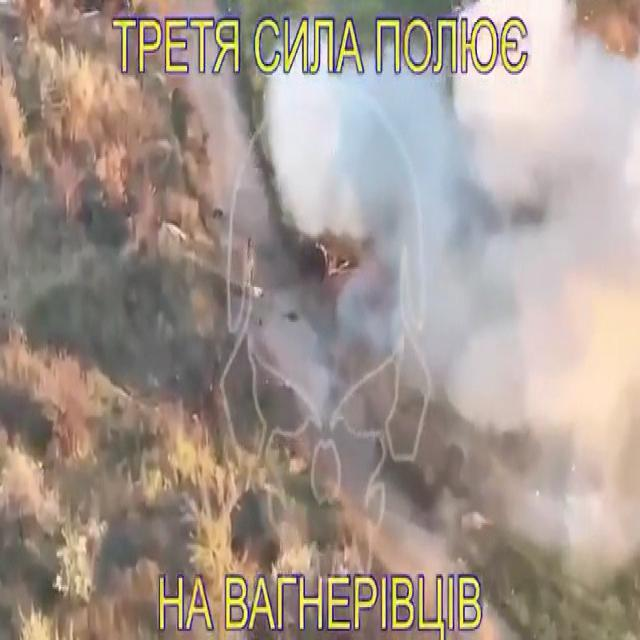MIL_Pax: (245, 238, 255, 285), (249, 288, 264, 298)
